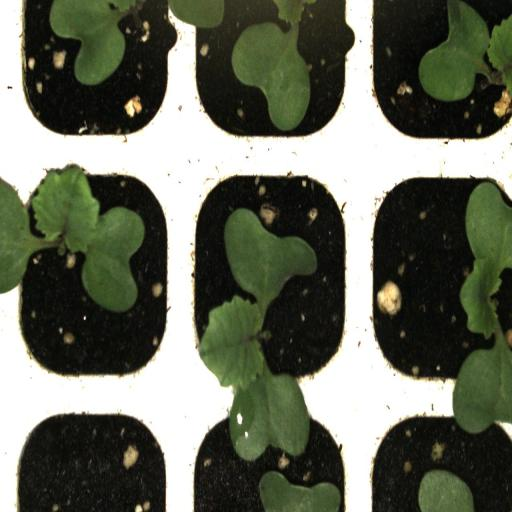seedling: (179, 154, 356, 390), (4, 152, 176, 390), (358, 153, 512, 391), (359, 0, 512, 153)
